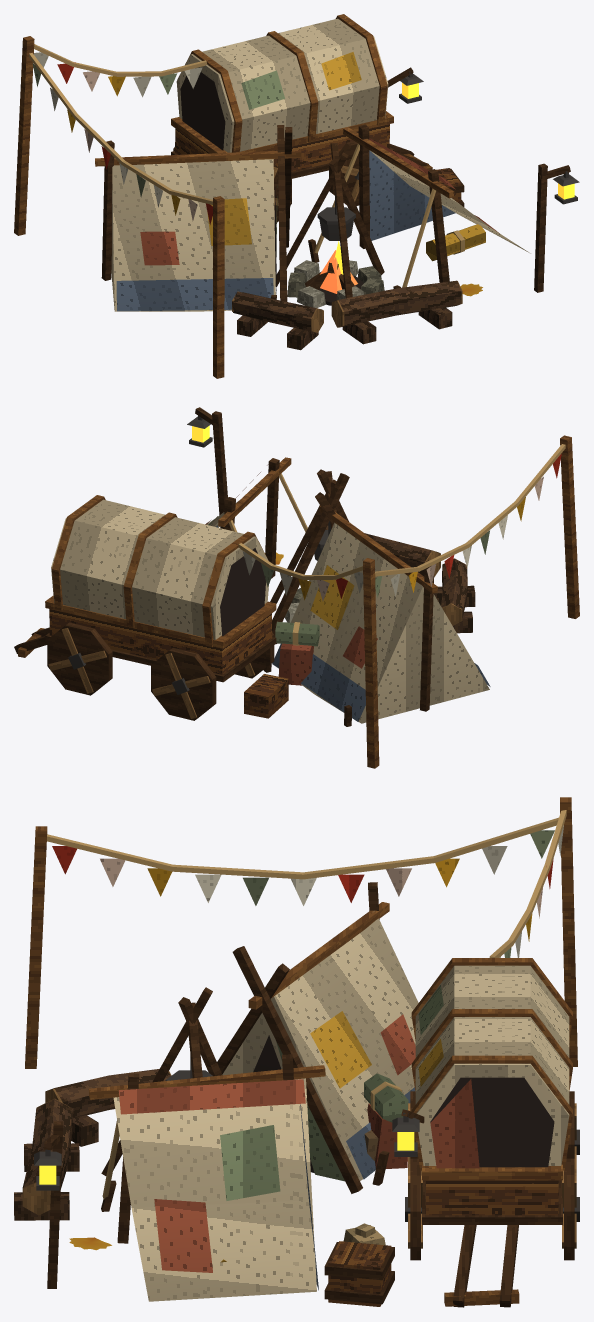
The model's file is camp_2.glb.
3 views of the same model, one above another, from view 1: azimuth 30°, elevation 25°; view 2: azimuth 150°, elevation 25°; view 3: azimuth 270°, elevation 25° (orthographic). The views are drawn at different scales.
Parts seen in each view (by area): view 1: camp_2, glow_fire; view 2: camp_2; view 3: camp_2, glow_lanterns.
Part boxes in pixels (x1=…): camp_2: x1=14, y1=14, x2=579, y2=378; glow_fire: x1=320, y1=241, x2=357, y2=293; camp_2: x1=14, y1=407, x2=579, y2=768; camp_2: x1=14, y1=797, x2=579, y2=1307; glow_lanterns: x1=39, y1=1132, x2=414, y2=1184.
Bounding box in the file's own units: 5.67 × 2.83 × 5.33.
26 materials, 19 textured.
